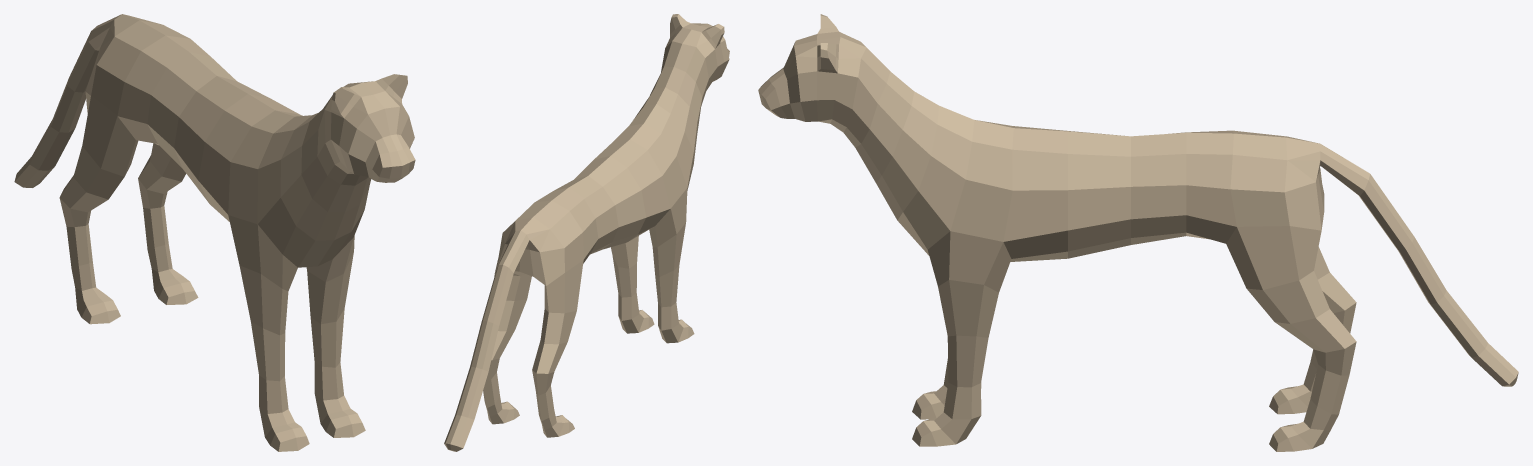
The model's file is luwu.glb.
The picture shows the model from 3 angles, left to right: view 1: azimuth 30°, elevation 25°; view 2: azimuth 150°, elevation 25°; view 3: azimuth 270°, elevation 25°; orthographic projection. The views are drawn at different scales.
Visible parts, largest first — view 1: Cheetah_mesh; view 2: Cheetah_mesh; view 3: Cheetah_mesh.
Boxes of the visible parts, x1,y1,x2,y2 form: Cheetah_mesh: [14, 14, 415, 451]; Cheetah_mesh: [444, 14, 729, 451]; Cheetah_mesh: [758, 14, 1518, 451].
Bounding box in the file's own units: 2.03 × 7.05 × 12.26.
